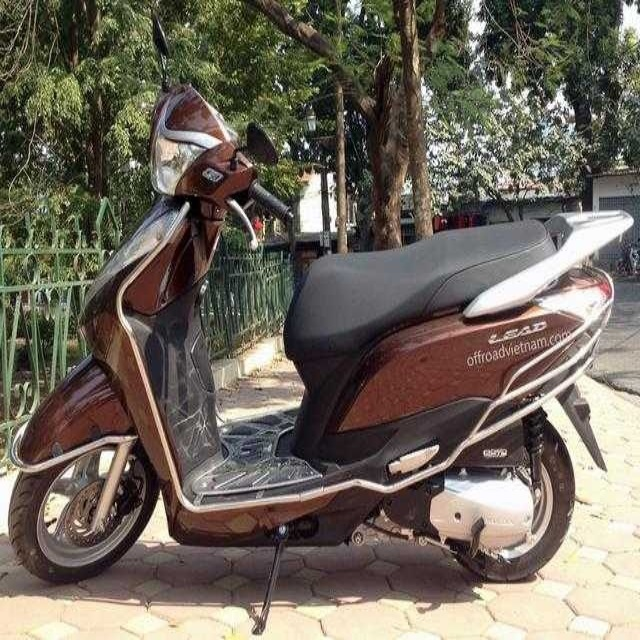Motorcycle: (7, 8, 633, 587)
